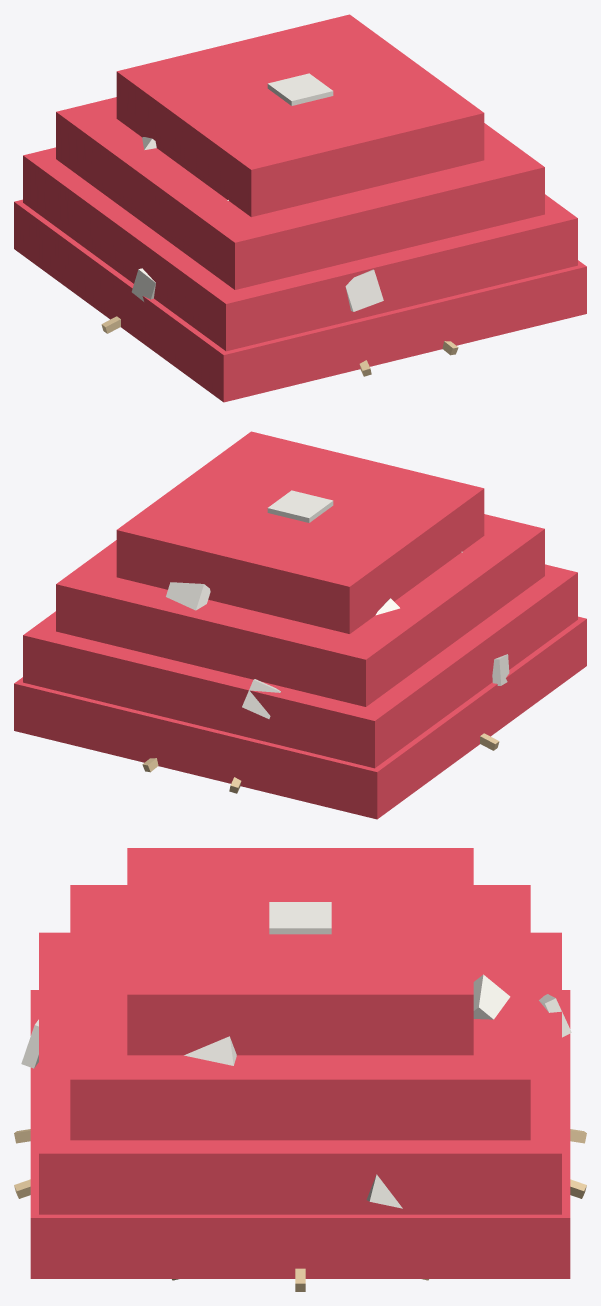
Rendered from mushroom-cap-blocky.glb.
The picture shows the model from 3 angles, top to bottom: view 1: azimuth 30°, elevation 25°; view 2: azimuth 150°, elevation 25°; view 3: azimuth 270°, elevation 25°; orthographic projection. The views are drawn at different scales.
Parts seen in each view (by area): view 1: mushroom-cap; view 2: mushroom-cap; view 3: mushroom-cap.
Part boxes in pixels (x1=…): mushroom-cap: x1=14, y1=14, x2=586, y2=402; mushroom-cap: x1=14, y1=431, x2=586, y2=819; mushroom-cap: x1=14, y1=848, x2=586, y2=1291.
Size of the model in its own units: 0.196 by 0.0946 by 0.1919.
